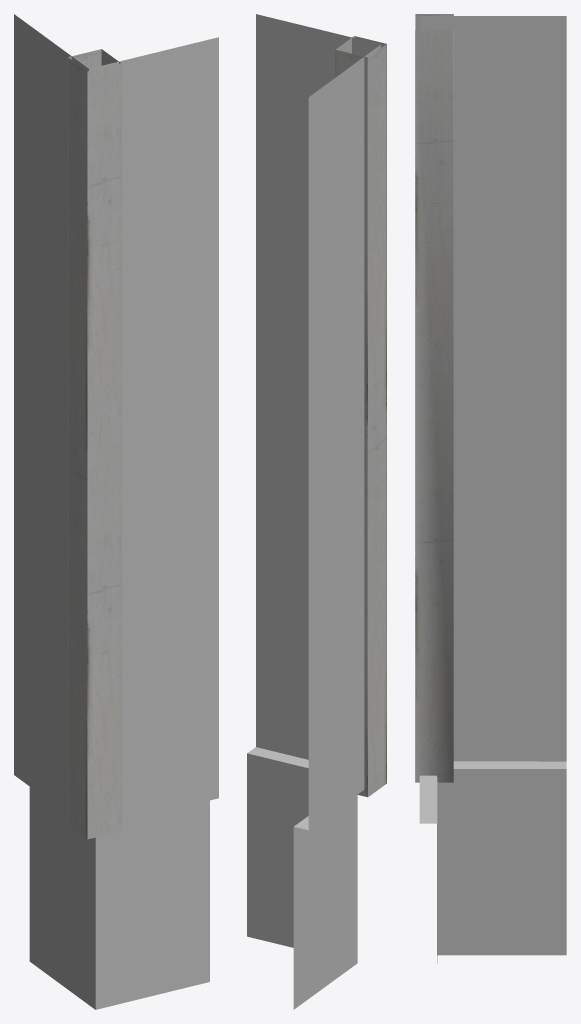
Rendered from WallDown_Corner_Out.FBX.
3 views of the same model, side by side, from view 1: azimuth 30°, elevation 25°; view 2: azimuth 150°, elevation 25°; view 3: azimuth 270°, elevation 25° (orthographic). The views are drawn at different scales.
Parts seen in each view (by area): view 1: WallDown_Corner_Out; view 2: WallDown_Corner_Out; view 3: WallDown_Corner_Out.
Part boxes in pixels (<box>): WallDown_Corner_Out: <box>14,14,218,1009</box>; WallDown_Corner_Out: <box>247,14,386,1009</box>; WallDown_Corner_Out: <box>415,14,566,963</box>.
Bounding box in the file's own units: 51.5 × 350 × 51.5.
